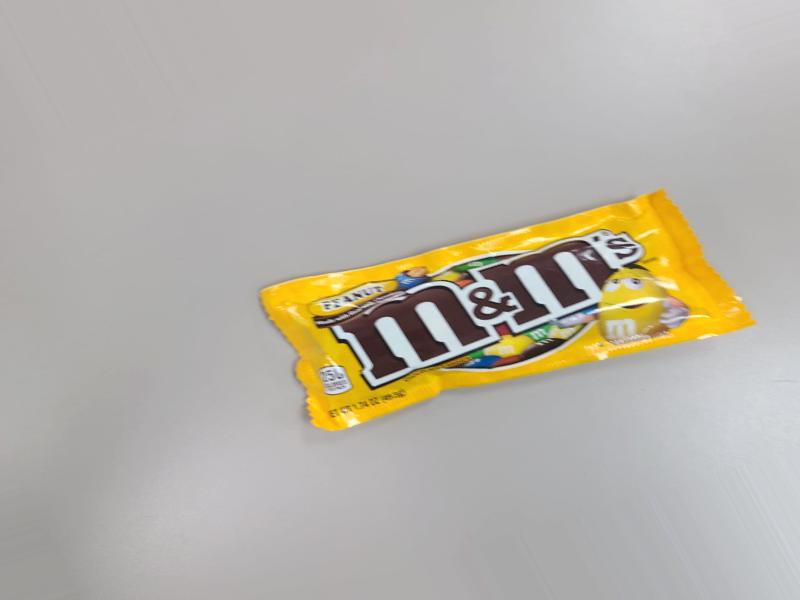m&m: (269, 184, 756, 428)
